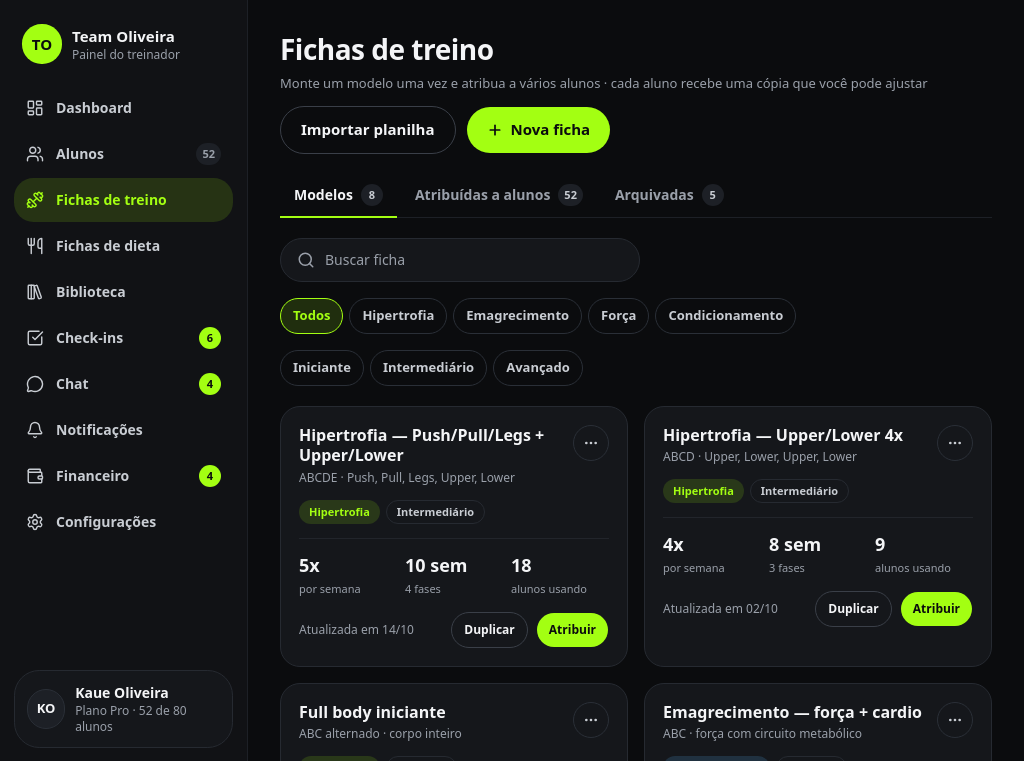
Scenario: Fichas de treino › filtros na URL: objetivo, nível e busca
Check: the heading "Fichas de treino" is shown, box [280,30,494,68]
Click the button "Emagrecimento" at (518, 316), box [453,298,582,334]
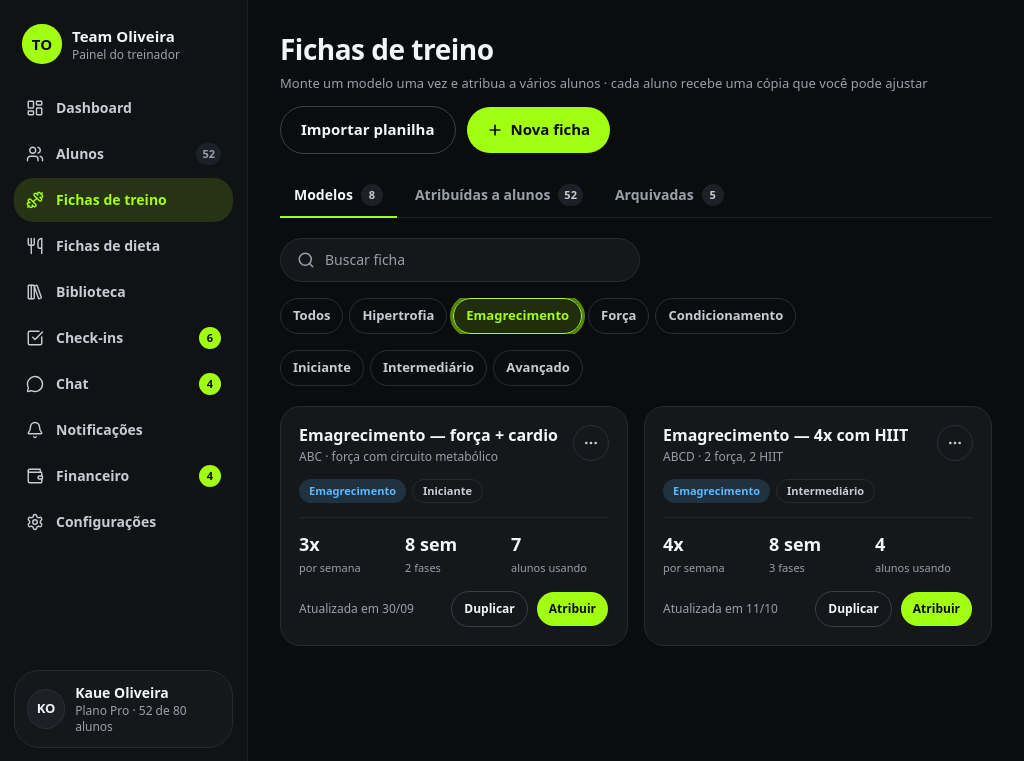
Click the button "Intermediário" at (428, 368), box [370,350,487,386]
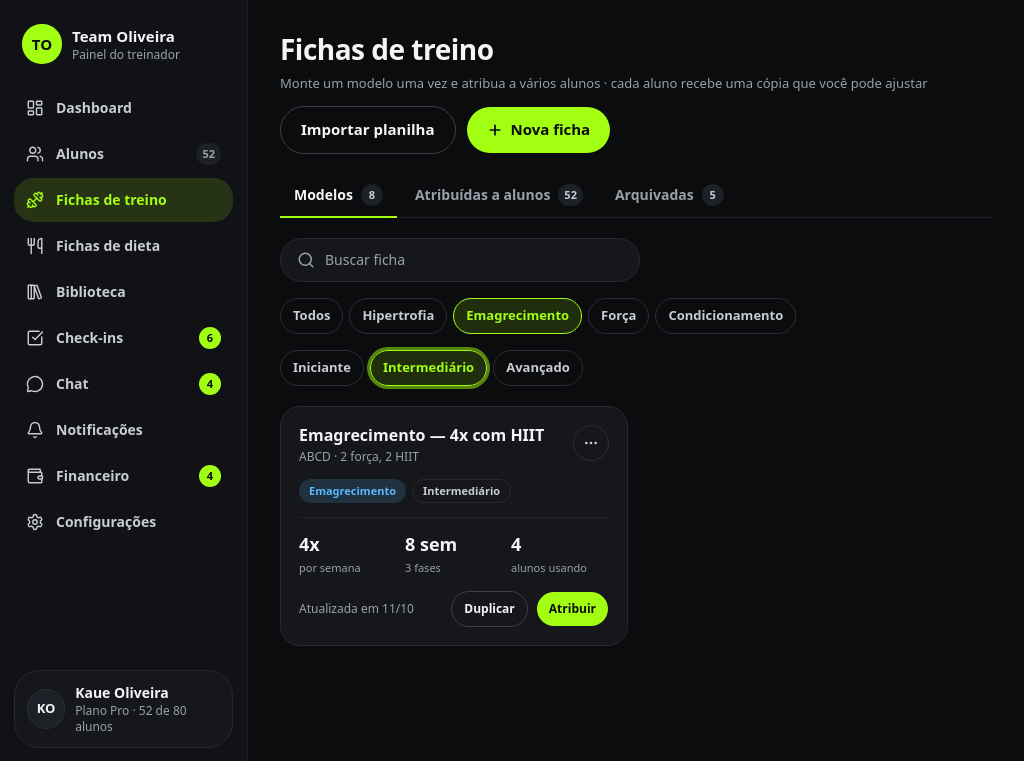
Click the button "Todos" at (312, 316), box [280,298,343,334]
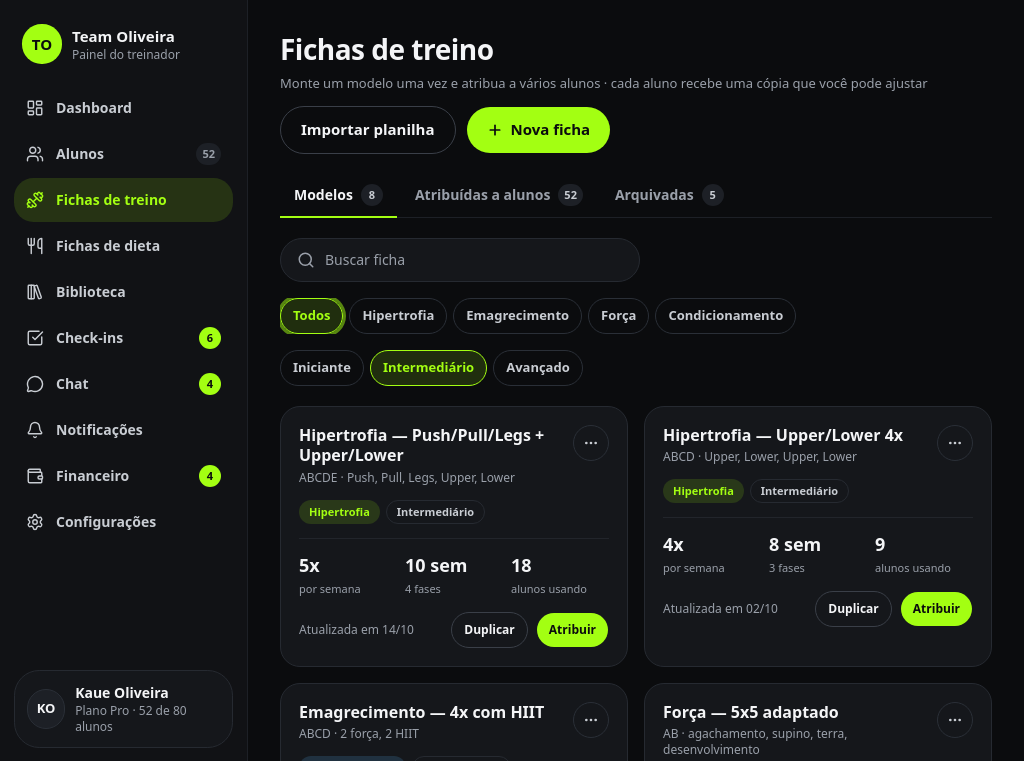
Type "glúteo" into the search field labelled "Buscar ficha" at (474, 260), box [325,250,623,270]
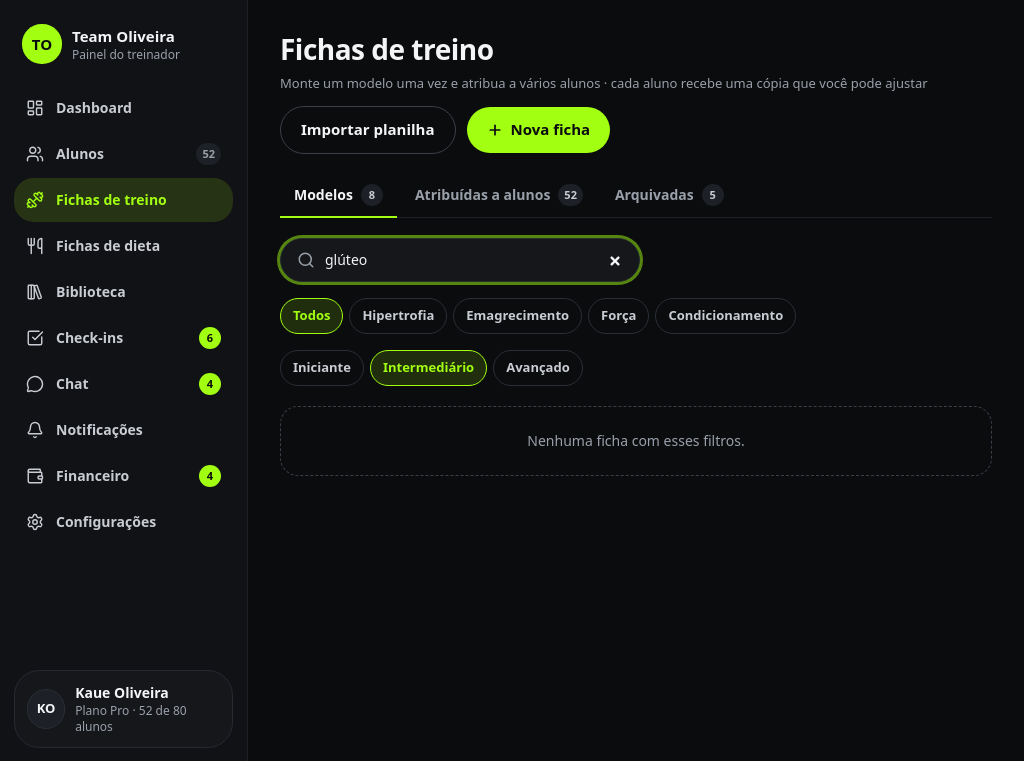
Click the button "Intermediário" at (428, 368), box [370,350,487,386]
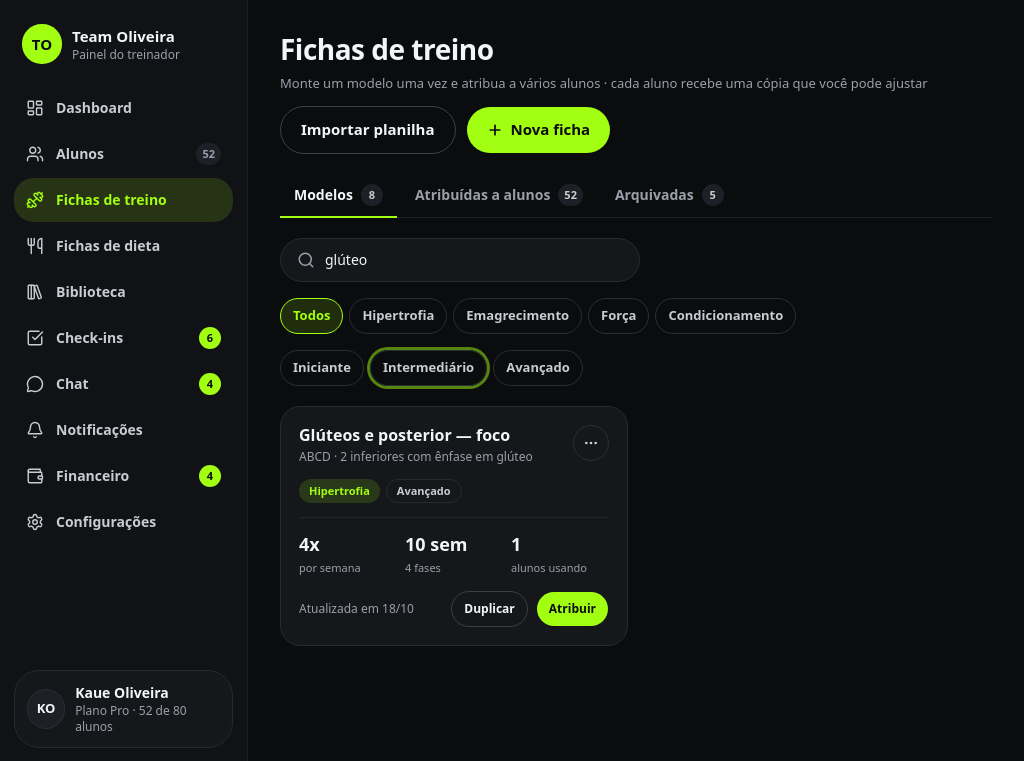
Check: the element "Glúteos e posterior — foco" is shown, box [280,406,628,646]
